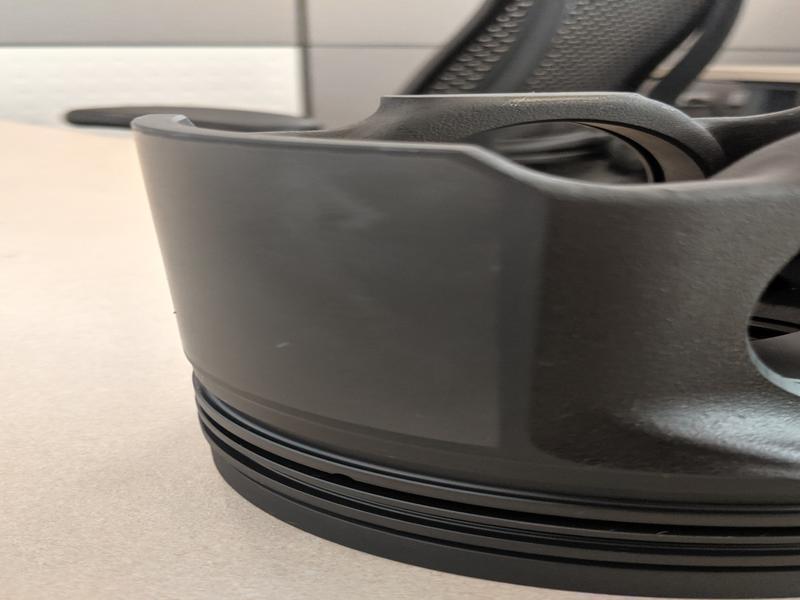piston: (127, 87, 800, 597)
